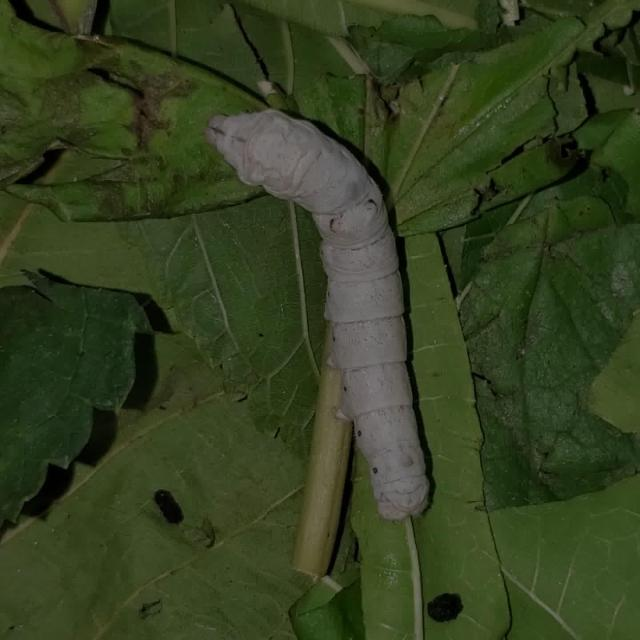Healthy: (163, 61, 461, 539)
